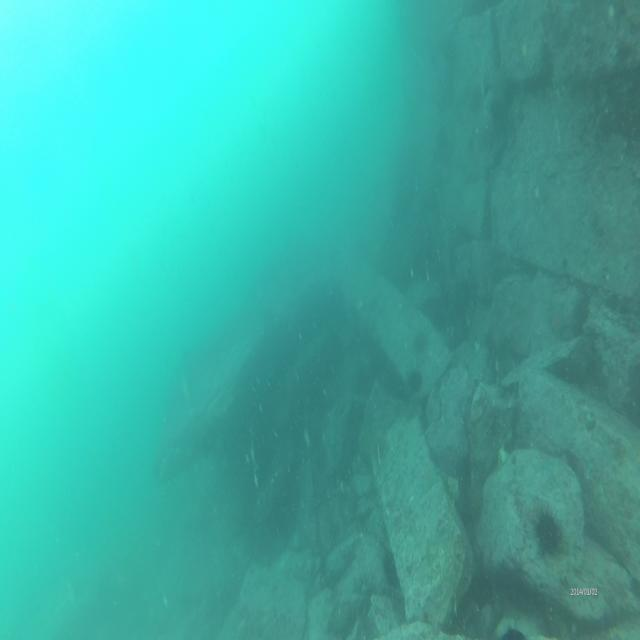echinus: (532, 508, 564, 557), (408, 371, 424, 396)
